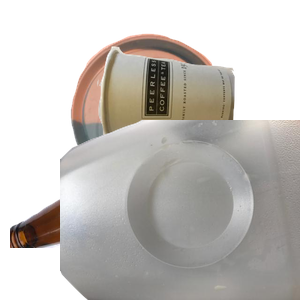glass: (10, 120, 247, 300)
metal: (68, 31, 288, 211)
plastic: (60, 120, 300, 300)
trash: (95, 44, 300, 180)
